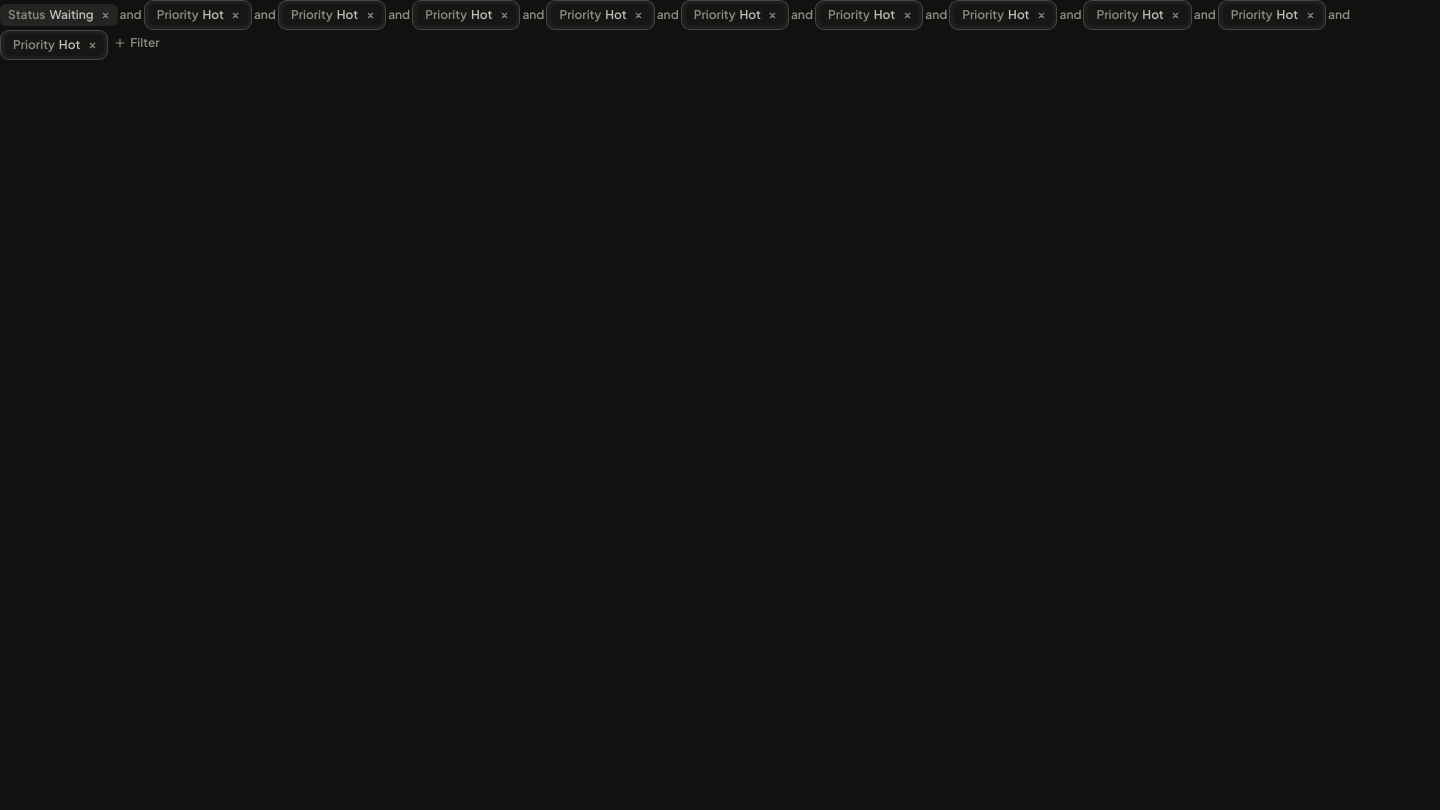
Test case: PredicateChips — or groups on the filter line › no new group past the cap: a chip of its own offers no "Another filter (OR)"
What coordinates should you click on to do the following:
click the button with test id "list-filter-chip" showing "Status Waiting"
I would click on:
 (59, 15)
Its box is [0,4,118,26].
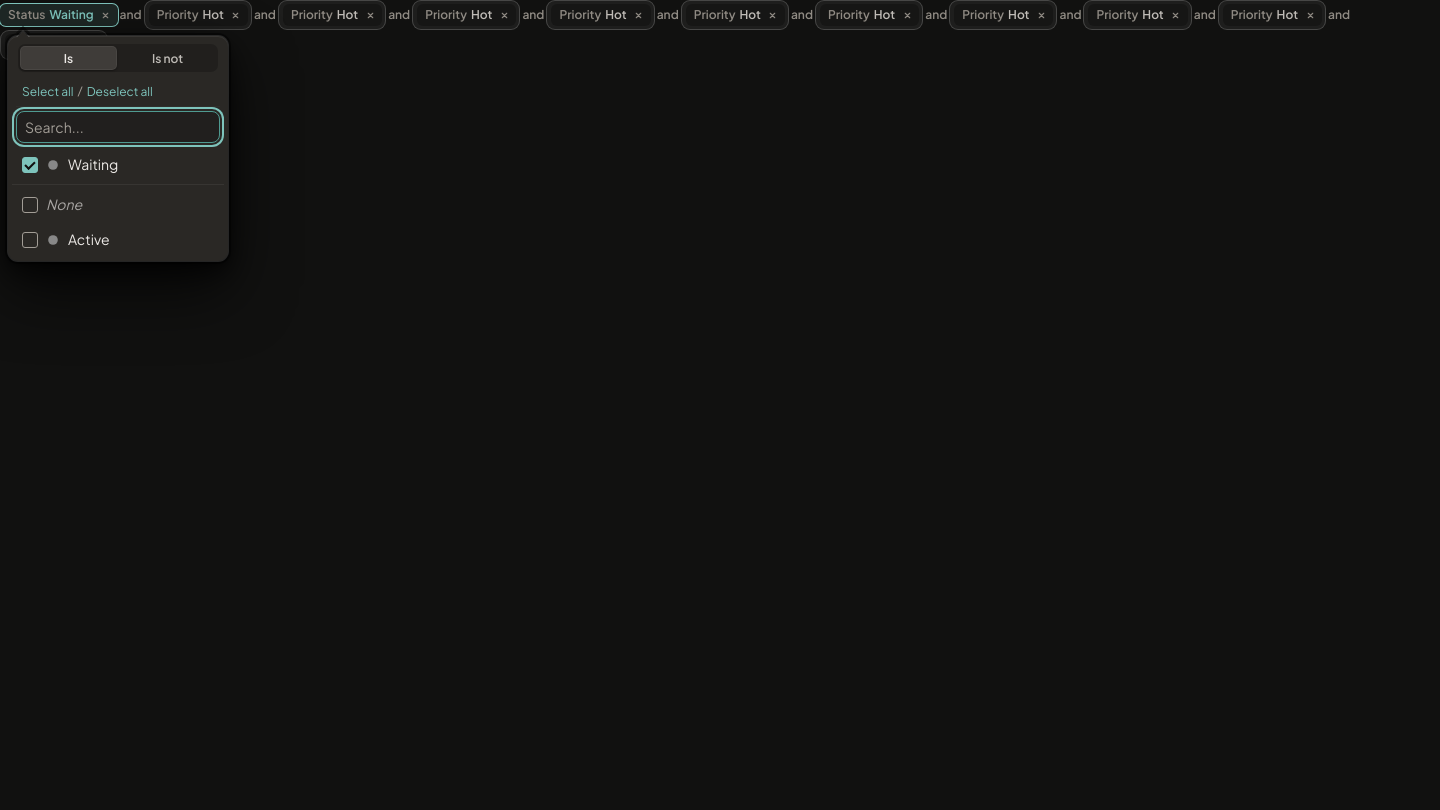
Expected: the dialog named "Status filter" is shown, [8,36,228,261]
